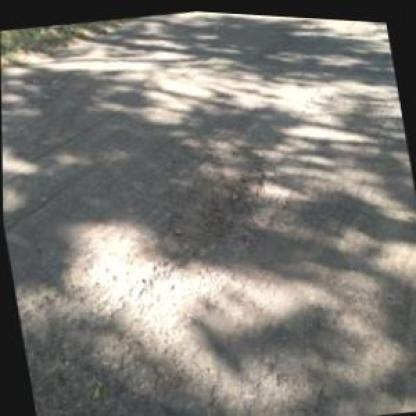pothole: (133, 133, 283, 276)
